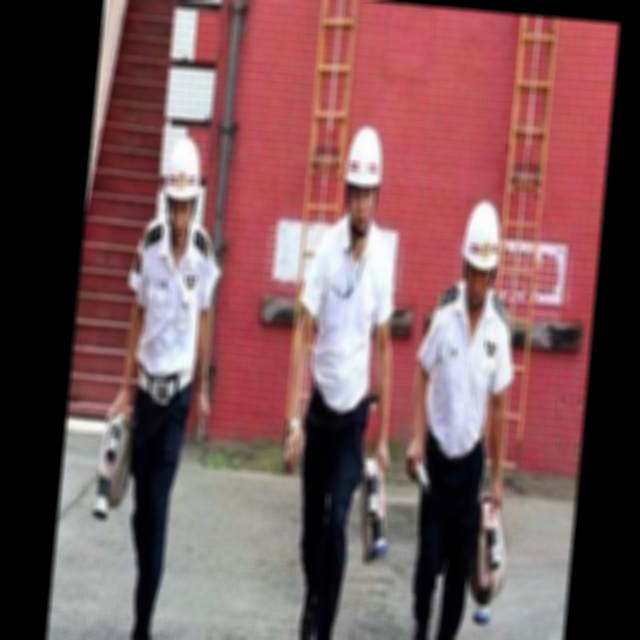Con_Casco: (339, 123, 387, 234), (459, 199, 503, 302)
